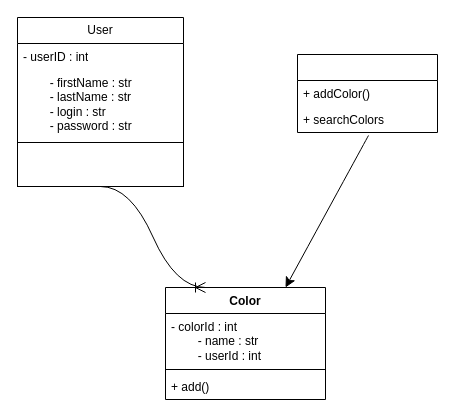
This 455x420 diagram has some shape labels left out. Each missing label, with the box of its shape:
+ Login() + Logout(): (16, 142, 184, 186)
ColorServices: (296, 54, 438, 132)
